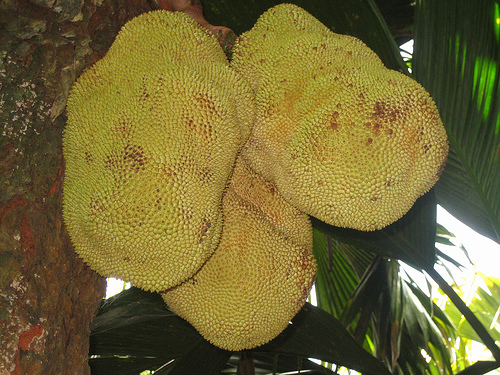jackfruit: (58, 7, 260, 296), (223, 2, 456, 235), (160, 148, 320, 353)
